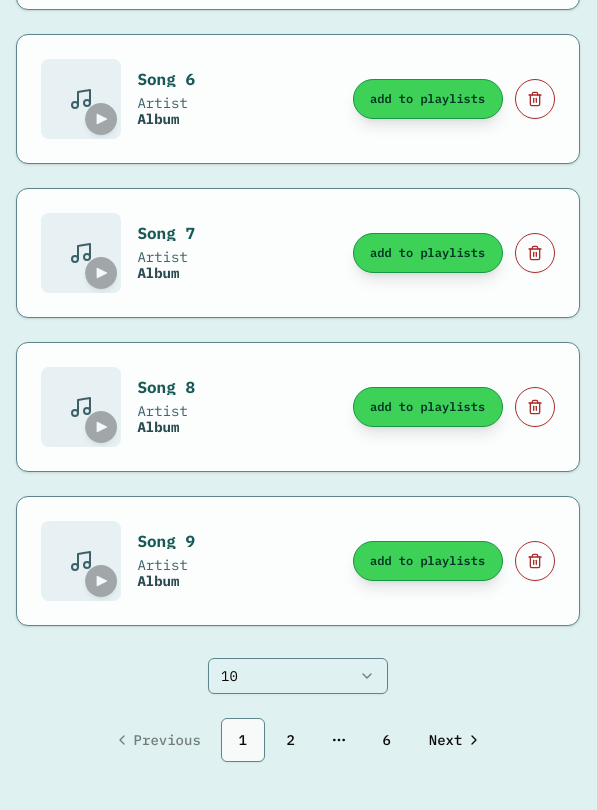
Clean playlist page › jumping to the first page from a later page requests offset 0
This screenshot has width=597, height=810.
(page scrolled)
Step 1. Click the button "6" → {"x": 387, "y": 740}, box [365,718,409,762]
(page scrolled)
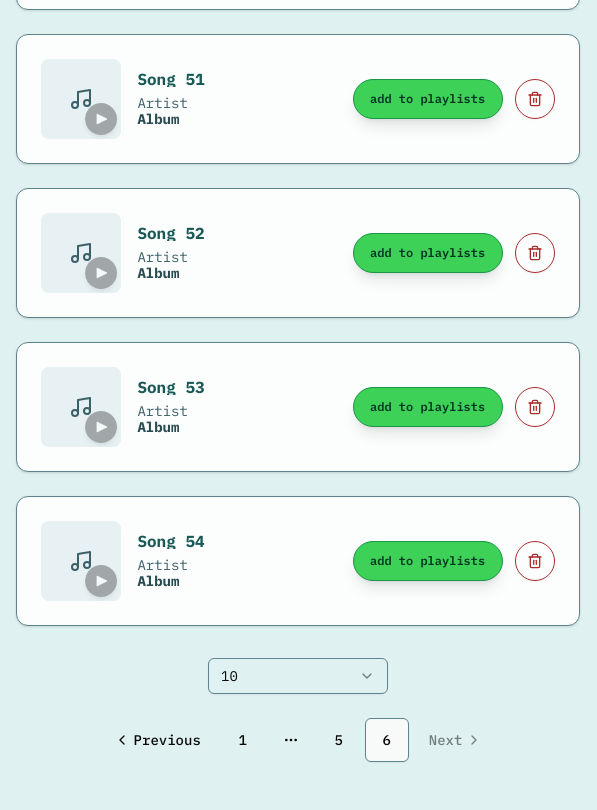
Step 2. Click the button "1" → {"x": 243, "y": 740}, box [221,718,265,762]
(page scrolled)
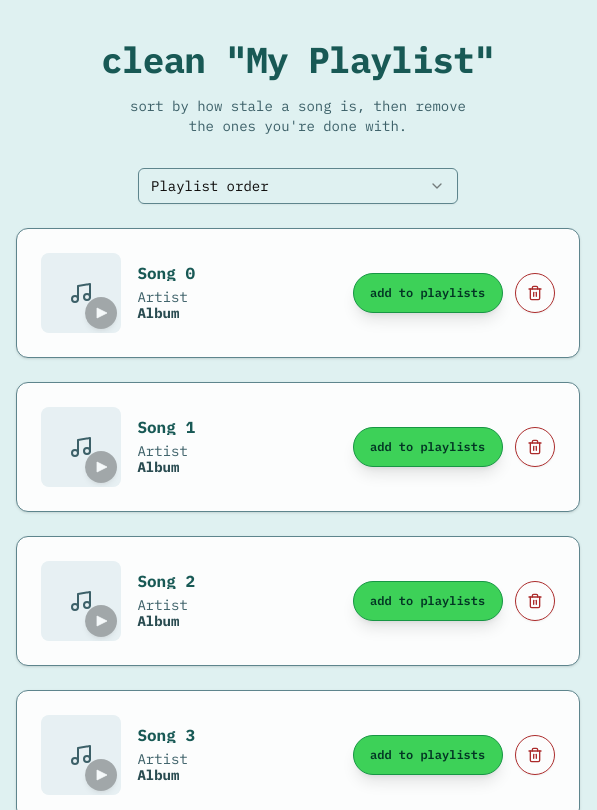
Now the heading "Song 0" is shown, box [137,265,195,281]
